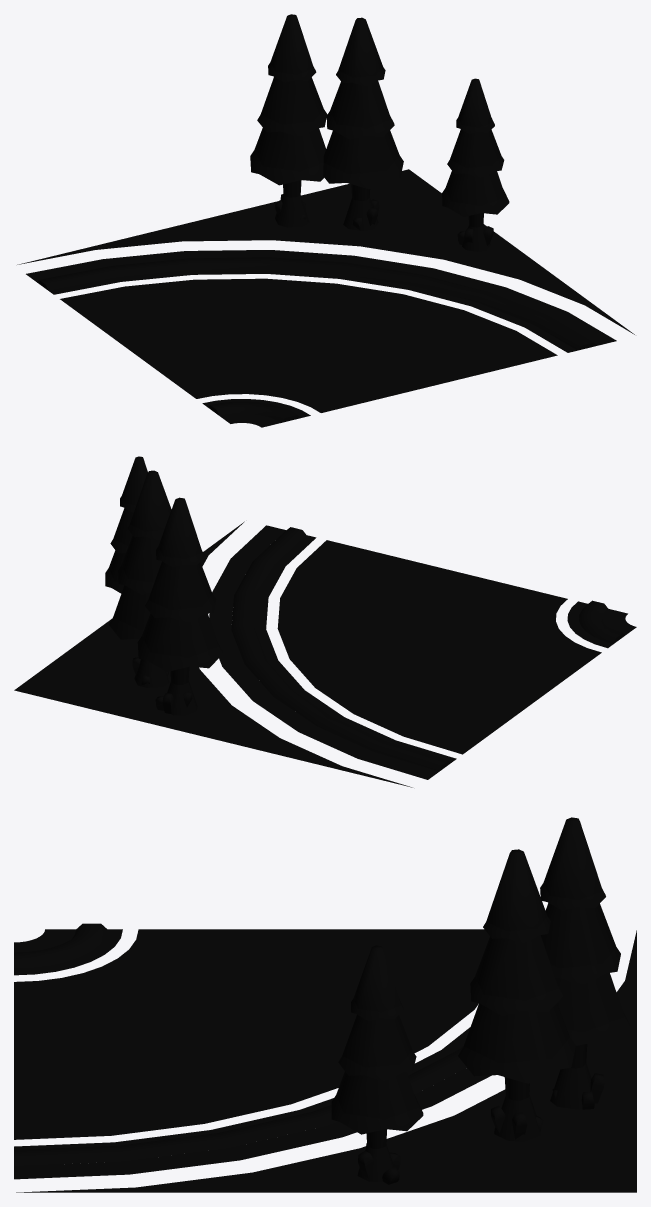
The model's file is track-corner-gravel.glb.
The picture shows the model from 3 angles, top to bottom: view 1: azimuth 30°, elevation 25°; view 2: azimuth 150°, elevation 25°; view 3: azimuth 270°, elevation 25°; orthographic projection. The views are drawn at different scales.
Parts seen in each view (by area): view 1: track-corner; view 2: track-corner; view 3: track-corner.
Boxes of the visible parts, x1=… form: track-corner: x1=17, y1=14, x2=634, y2=427; track-corner: x1=14, y1=456, x2=636, y2=787; track-corner: x1=14, y1=817, x2=636, y2=1192.
Bounding box in the file's own units: 10.06 × 4.94 × 10.
1 material, 1 textured.
